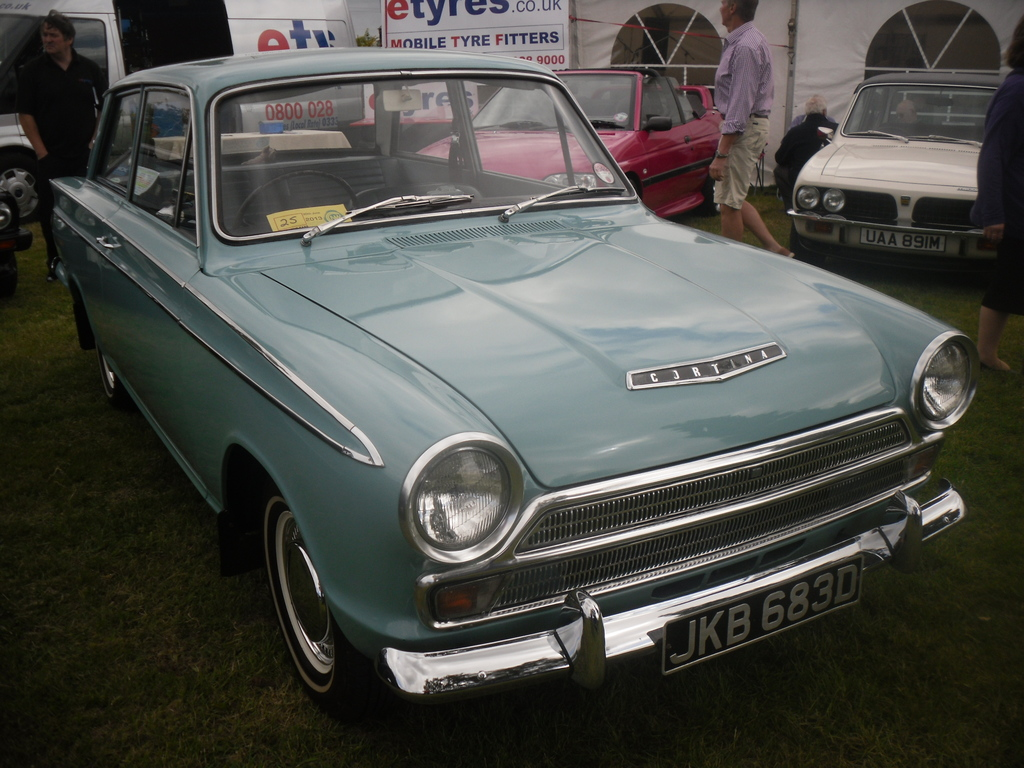Car: (53, 44, 979, 706), (419, 62, 730, 215), (789, 76, 1006, 265)
